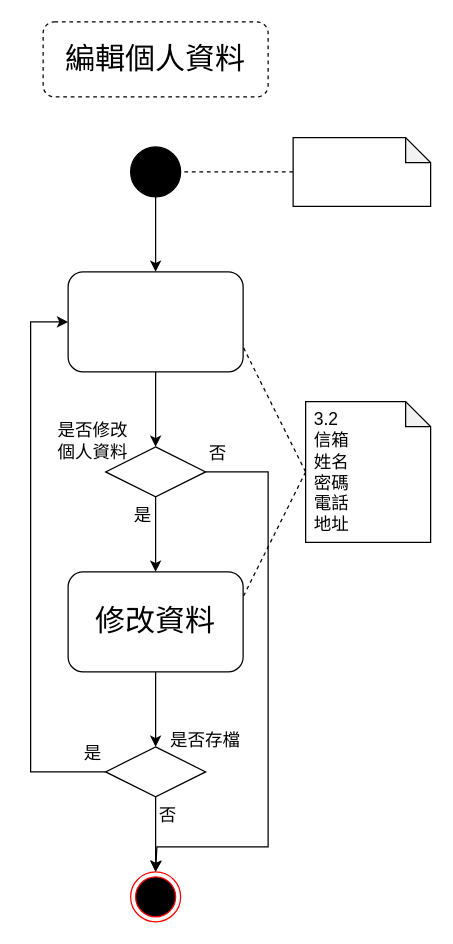
The diagram is 453 pixels wide and 944 high, and some of its shapes have lost their labels. Here are the shapes that lost their labels. From the top down, the centre of each, then its label:
At (x=361, y=171): "3.1 需要先登入".
At (x=155, y=321): "顯示 個人資料".
